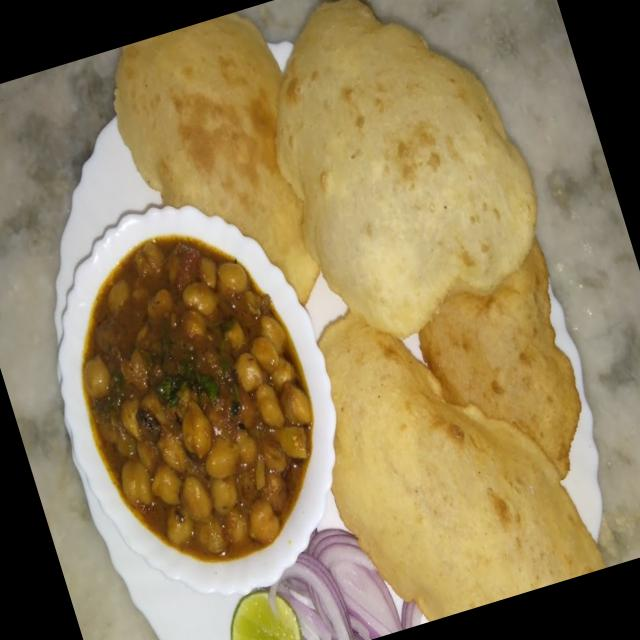Bhatura: (193, 0, 640, 637), (93, 4, 350, 348)
Chole: (49, 222, 346, 582)
